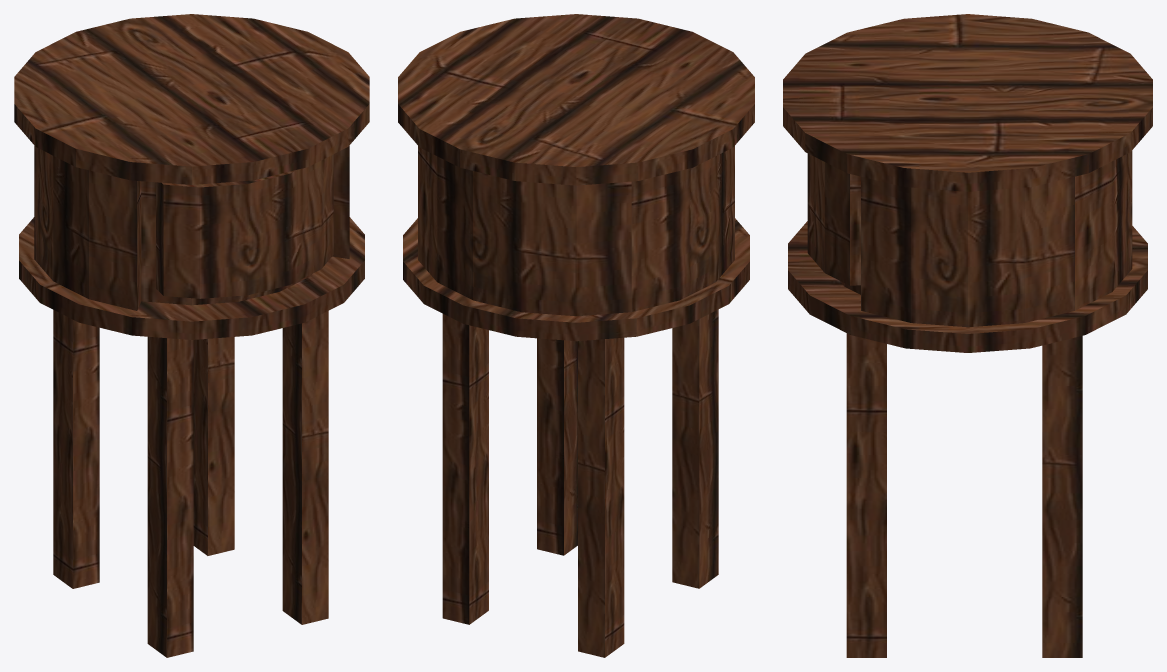
The model's file is circlecabinet.FBX.
3 renders of one model, left to right at view 1: azimuth 30°, elevation 25°; view 2: azimuth 150°, elevation 25°; view 3: azimuth 270°, elevation 25°, orthographic. The views are drawn at different scales.
Visible parts, largest first — view 1: Cylinder001; view 2: Cylinder001; view 3: Cylinder001.
Boxes of the visible parts, bbox=[...] form: Cylinder001: bbox=[14, 14, 369, 657]; Cylinder001: bbox=[398, 14, 754, 657]; Cylinder001: bbox=[783, 14, 1152, 657].
Size of the model in its own units: 1208 by 1862 by 1189.
1 material, 1 textured.
